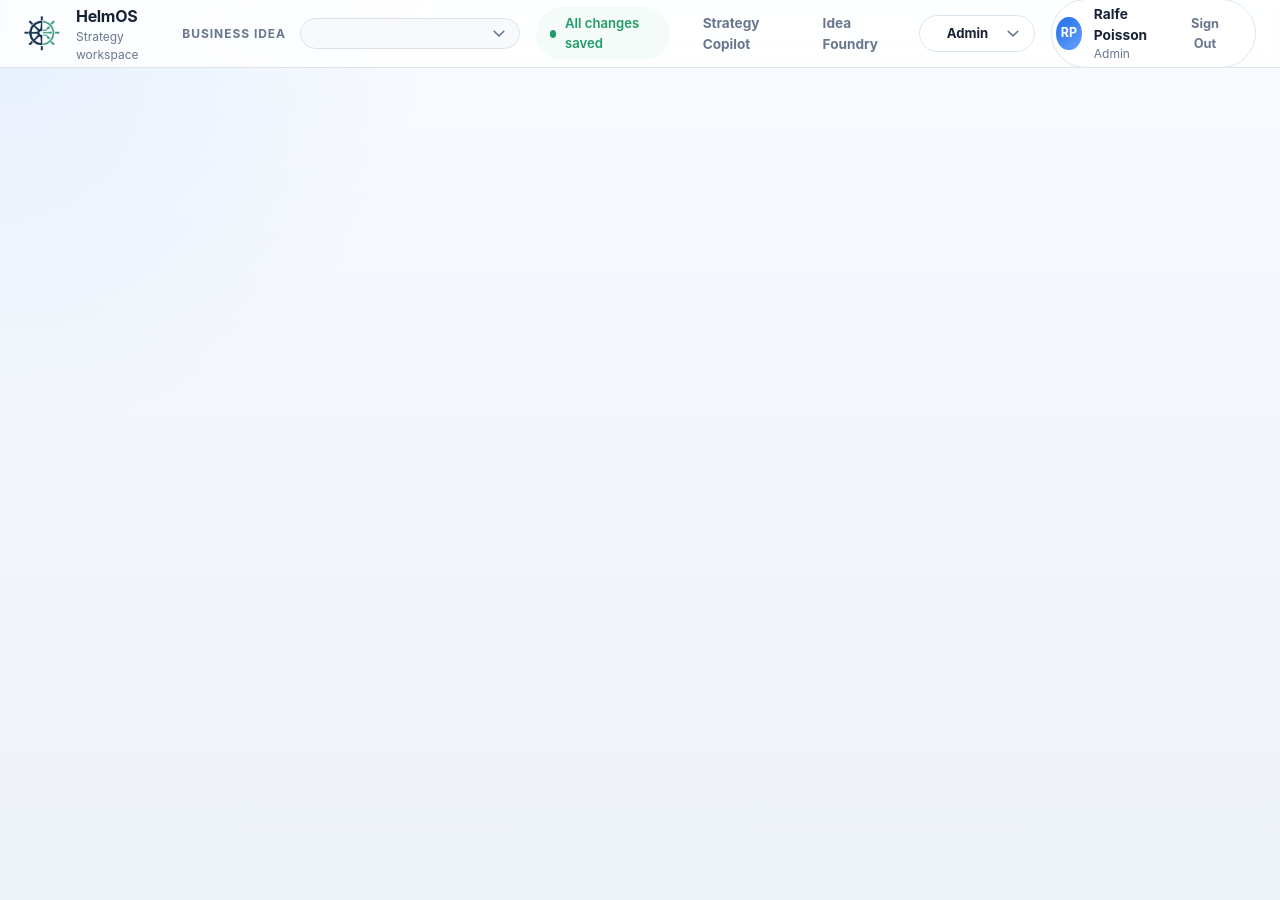
Test: TopNavComponent › shows conceptual tools and agent testing in the admin menu
Click the button "Admin" at (977, 34), box [919,15,1035,52]
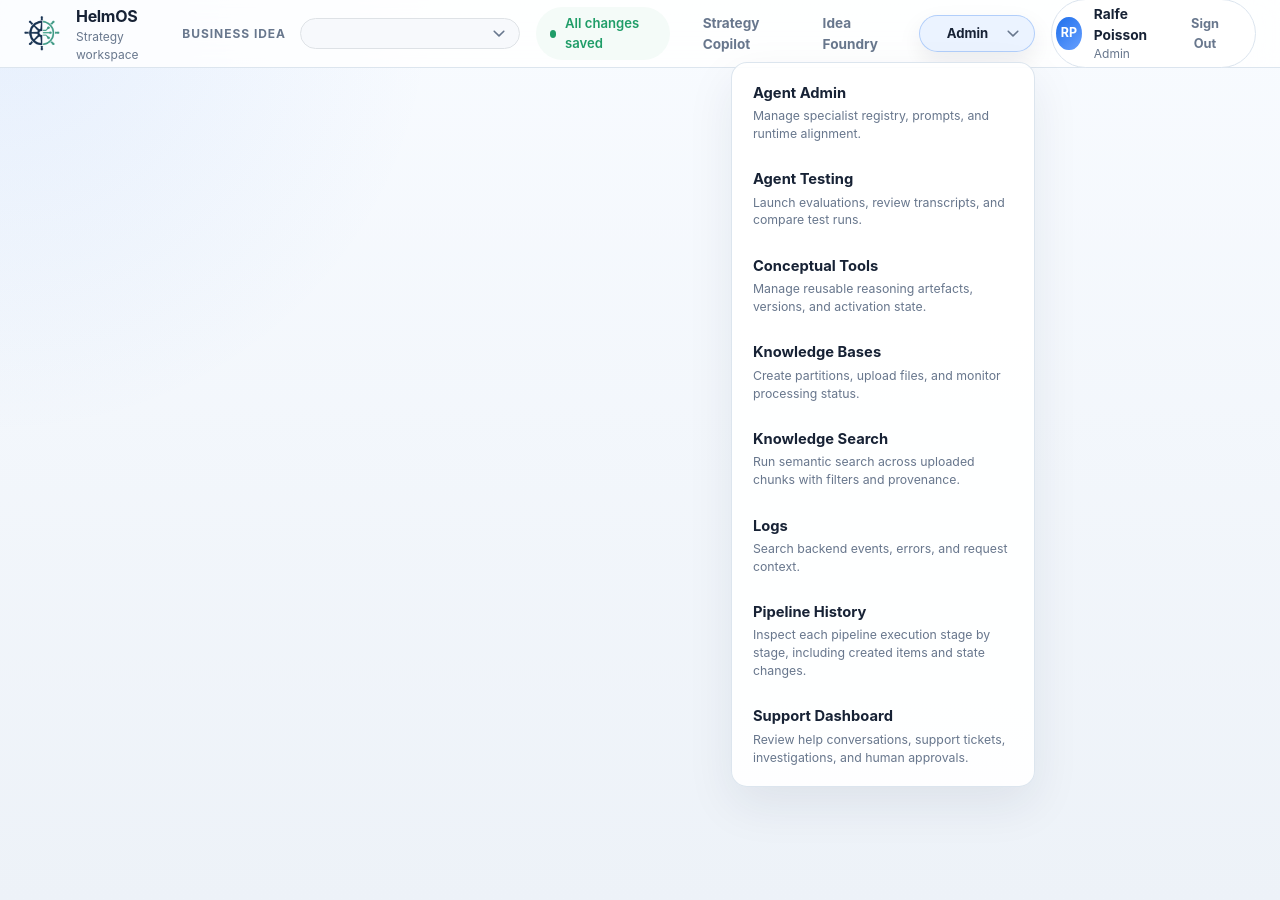
Expected: the text "Conceptual Tools" is shown, [753,257,878,275]
Expected: the text "Agent Testing" is shown, [753,170,853,188]
Expected: the text "Pipeline History" is shown, [753,603,866,621]
